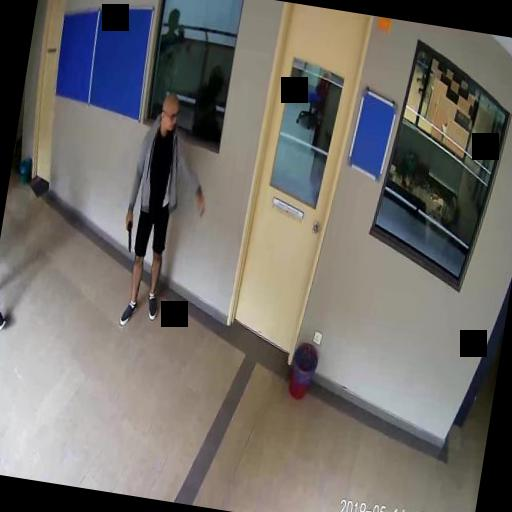Handgun: (119, 213, 134, 251)
